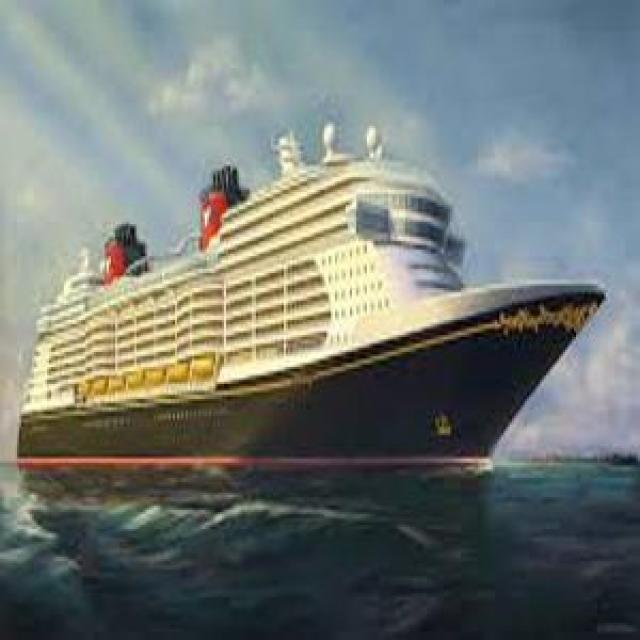passenger ship: (19, 123, 604, 472)
